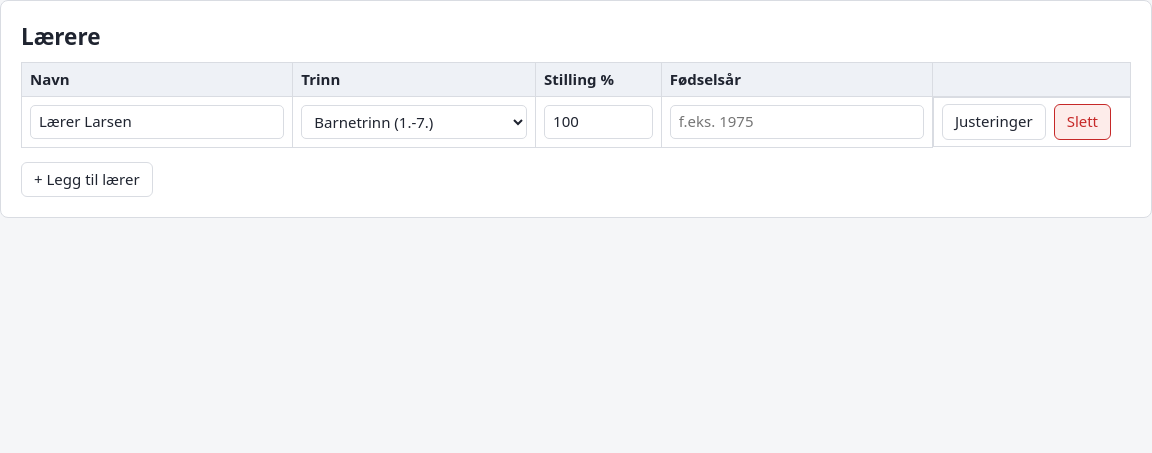
it: LaererPanel › lukker justeringspanelet igjen
Click the button "Justeringer": {"x": 994, "y": 122} x1=942 y1=104 x2=1046 y2=140
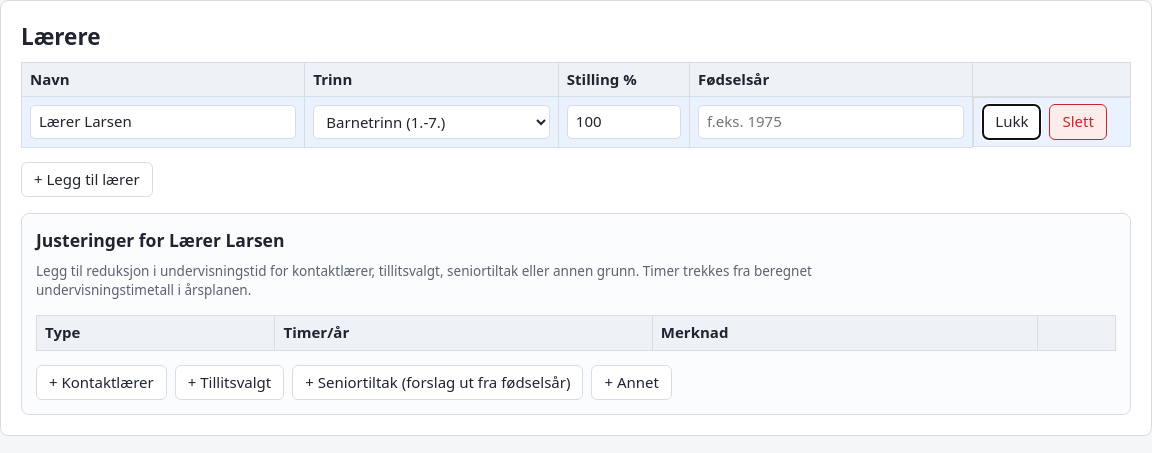
Click the button "Lukk": {"x": 1012, "y": 122} x1=982 y1=104 x2=1042 y2=140
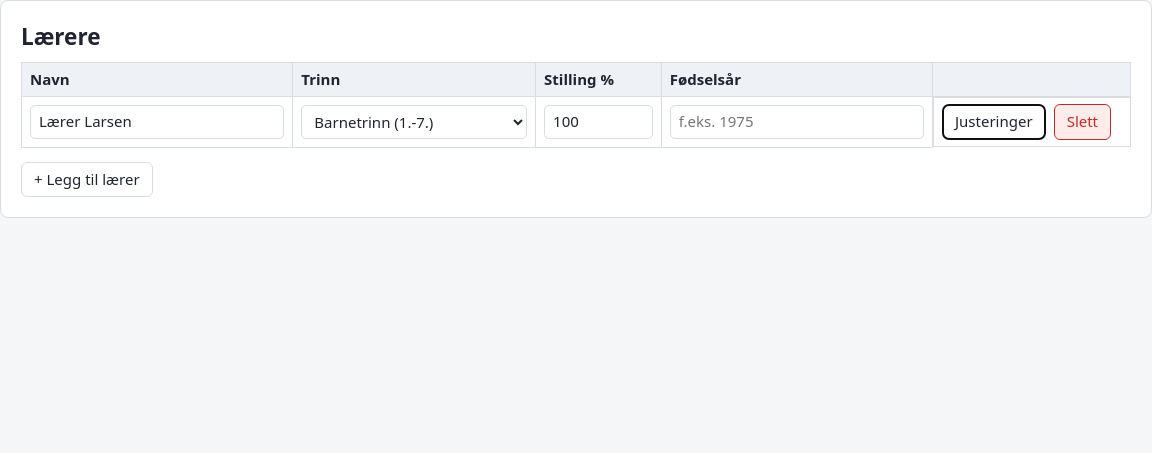
Now the heading "Justeringer for Lærer Larsen" is gone
